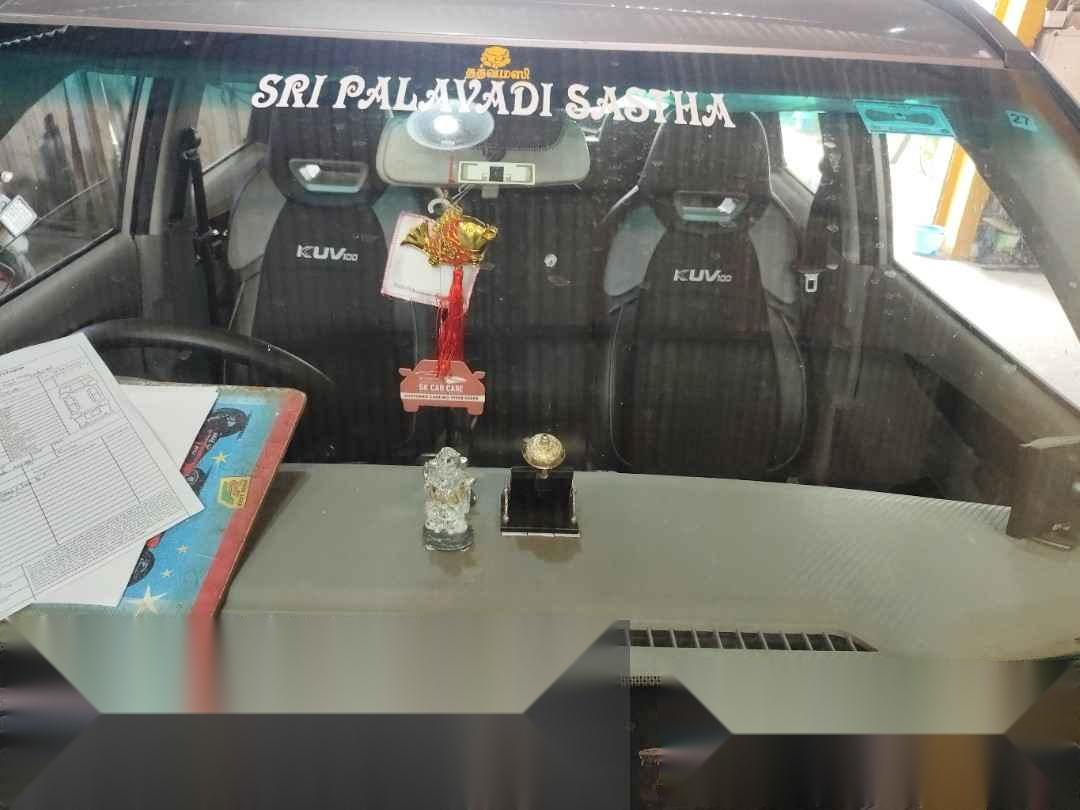FastTag: (851, 98, 959, 141)
not a FastTag: (263, 62, 752, 143), (461, 158, 541, 188)
